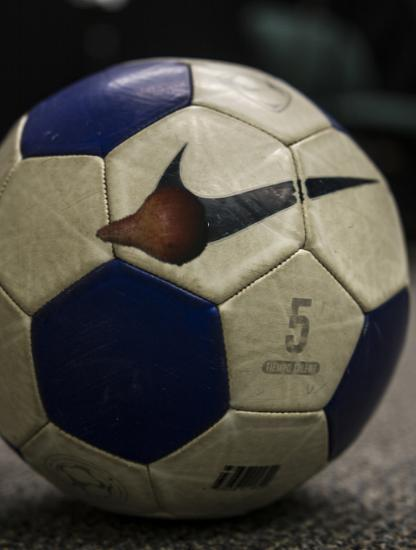Pear: (95, 171, 210, 286)
